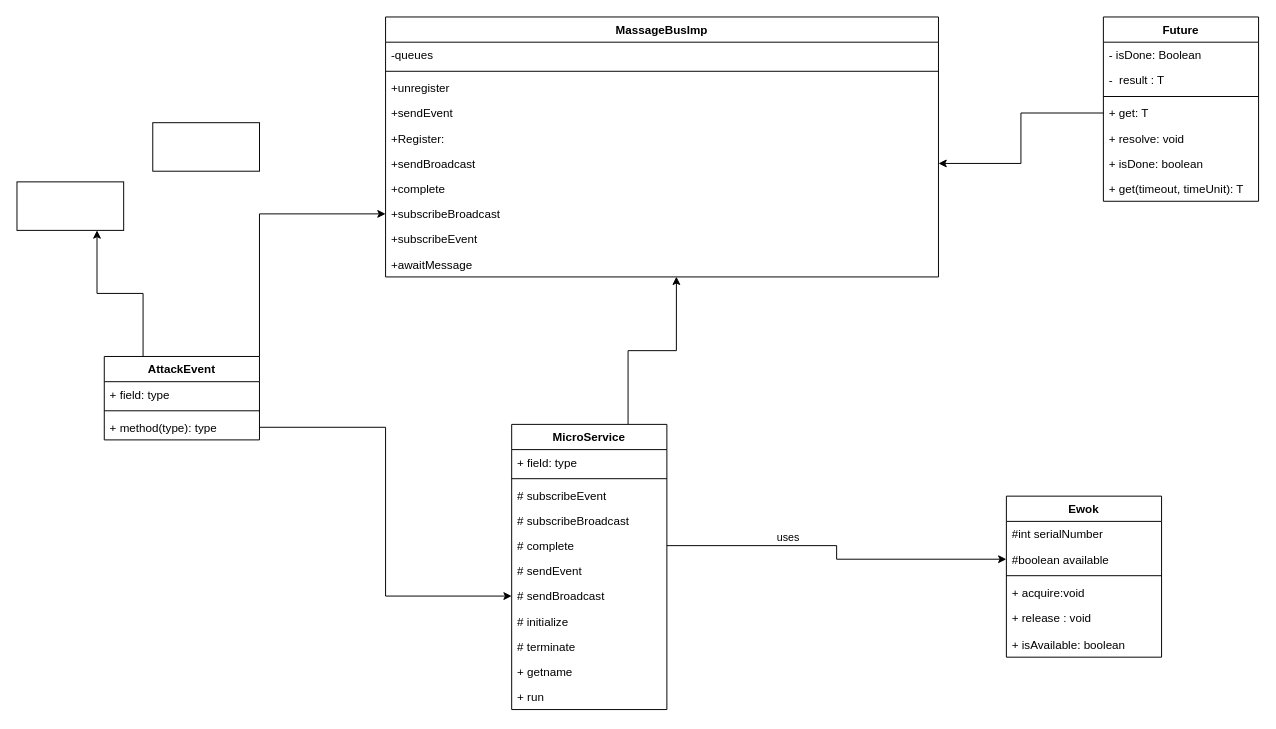
This 1276x729 diagram has some shape labels left out. Each missing label, with the centre of its shape:
"«interface» Broadcast" goes at (x=205, y=146).
"«interface» Event" goes at (x=70, y=205).
